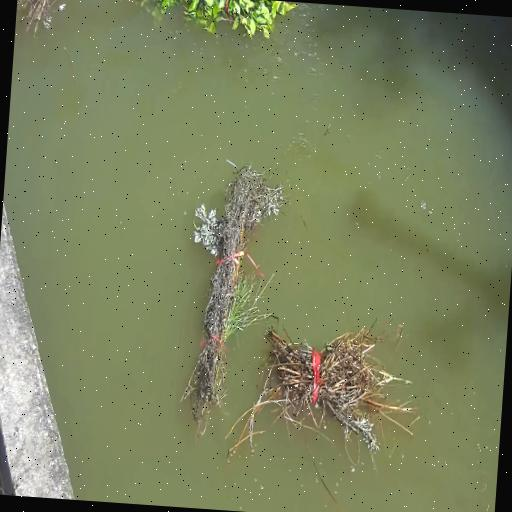twig: (162, 154, 296, 436), (224, 312, 416, 478), (126, 0, 309, 49), (14, 0, 78, 40)
